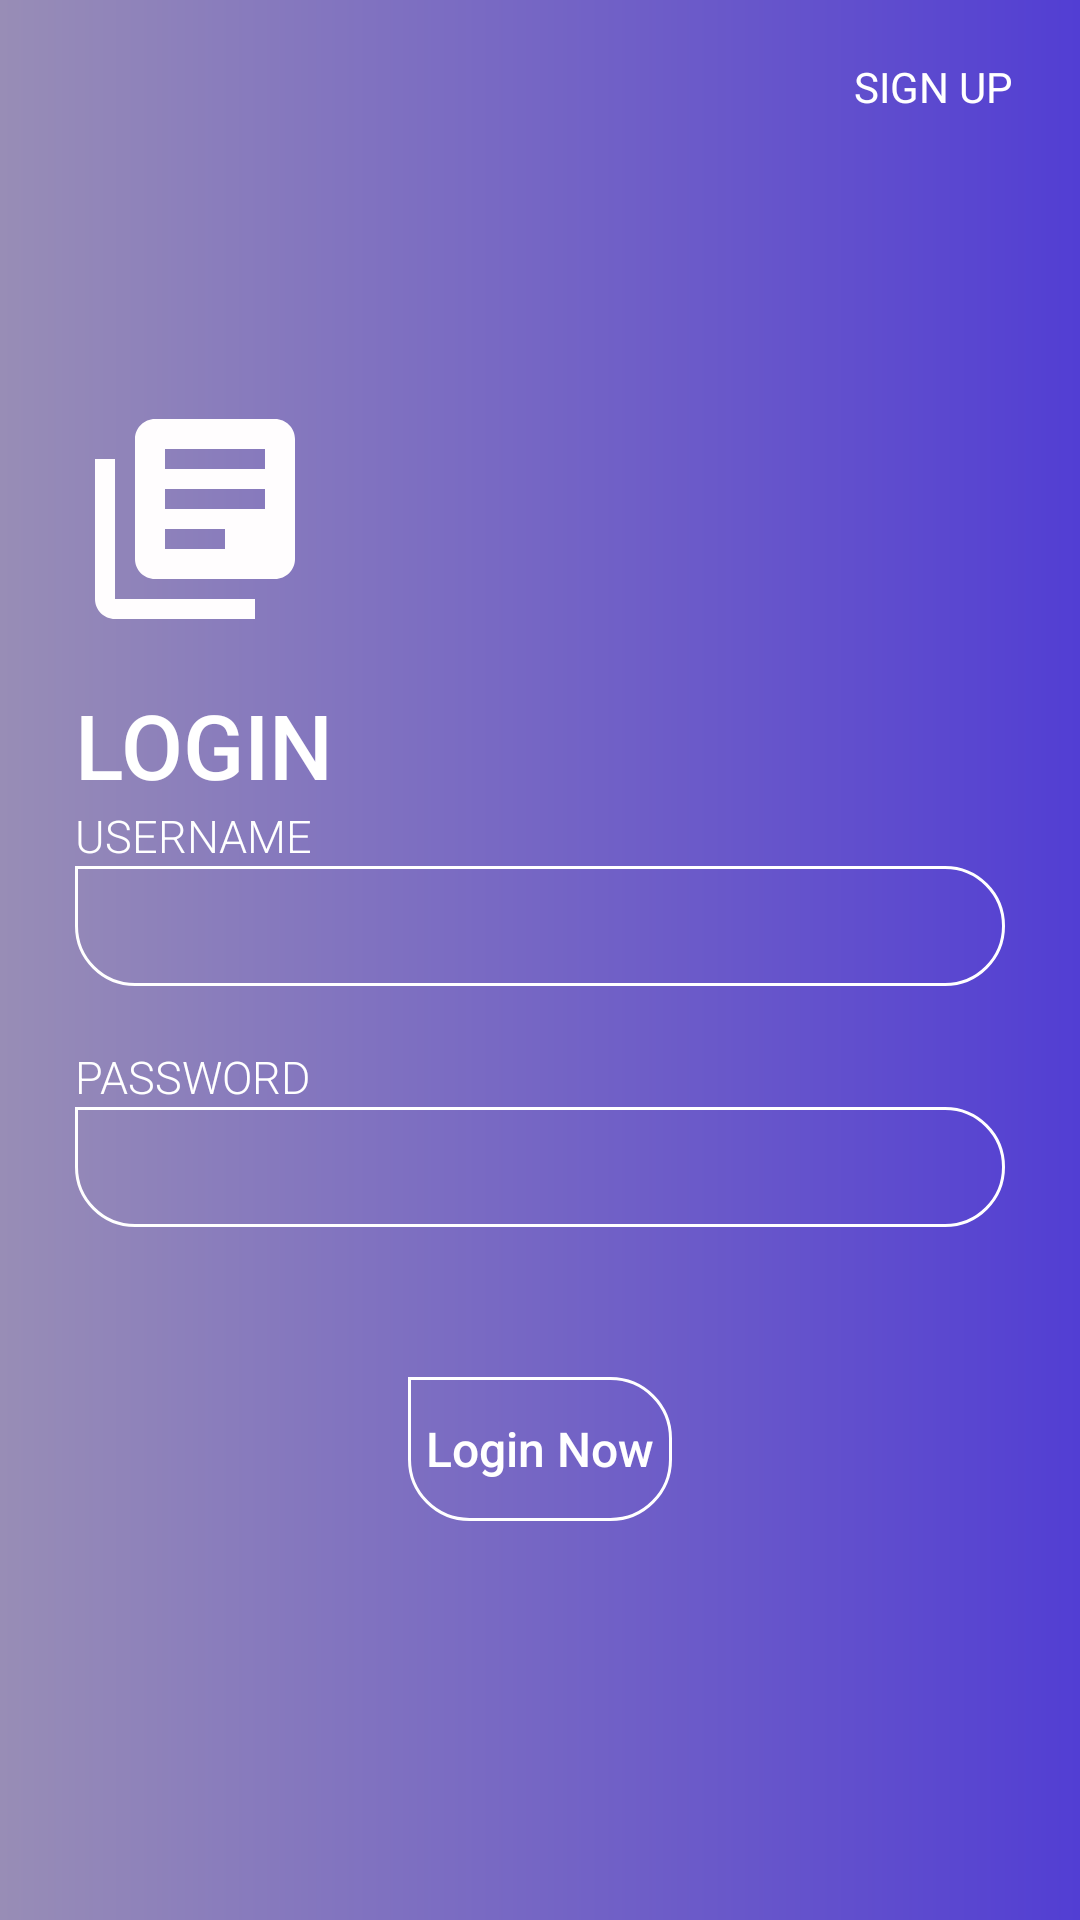

Icons on this 1080×1920 Android screen, each with its box as (x1, y1, x2, y2):
library books: (95, 419, 295, 619)
